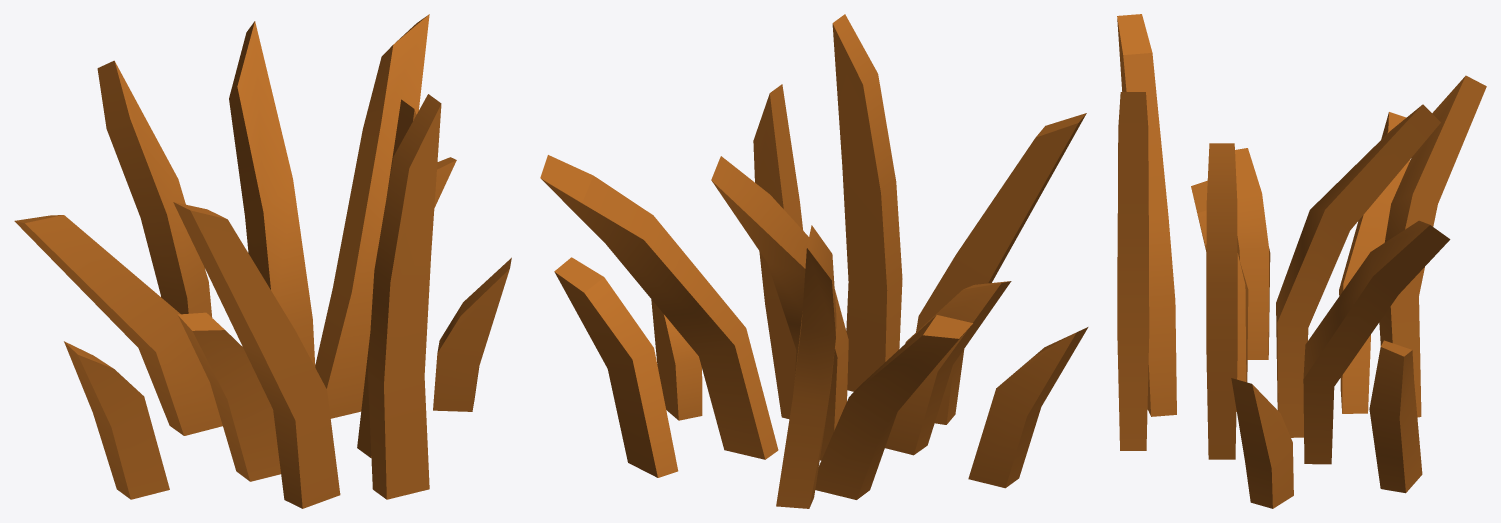
Rendered from Grass_1.gltf.
3 views of the same model, side by side, from view 1: azimuth 30°, elevation 25°; view 2: azimuth 150°, elevation 25°; view 3: azimuth 270°, elevation 25° (orthographic). The views are drawn at different scales.
Parts seen in each view (by area): view 1: Grass_1; view 2: Grass_1; view 3: Grass_1.
Part boxes in pixels (box(x1,y1,x2,y2)): Grass_1: box(14, 14, 511, 508); Grass_1: box(540, 14, 1088, 508); Grass_1: box(1117, 14, 1486, 508).
Size of the model in its own units: 1.27 by 0.9905 by 0.9104.
1 material, 1 textured.
